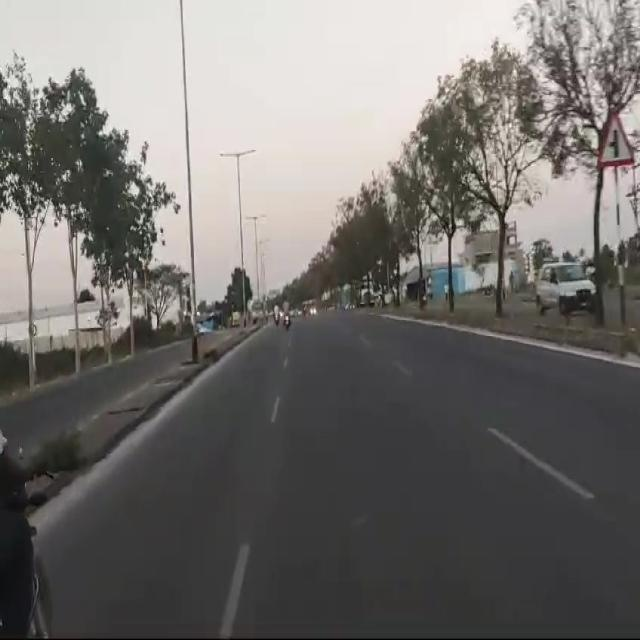bien_nguy_hiem: (596, 106, 634, 169)
